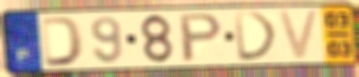8: (138, 12, 176, 66)
9: (90, 16, 124, 65)
D: (232, 10, 280, 63), (39, 16, 87, 68)
P: (178, 12, 225, 65)
V: (275, 8, 322, 62)
